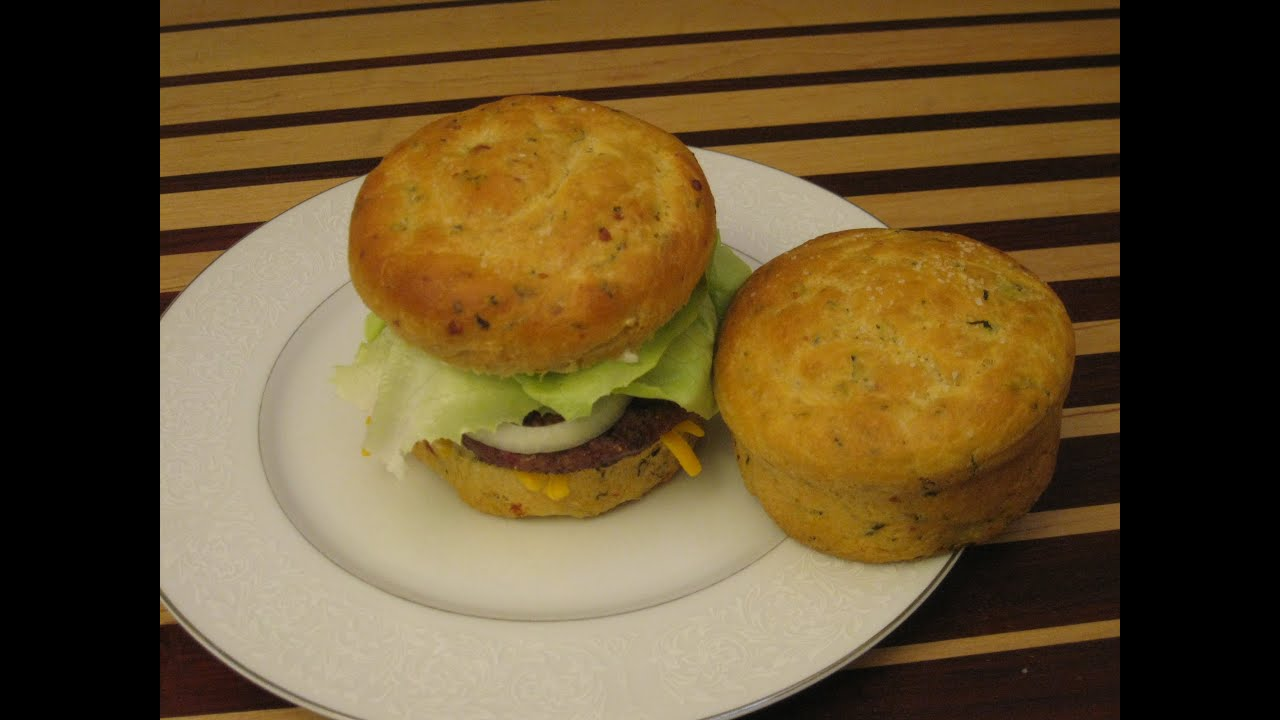hamburger_buns: (649, 192, 1094, 570), (332, 60, 711, 385)
